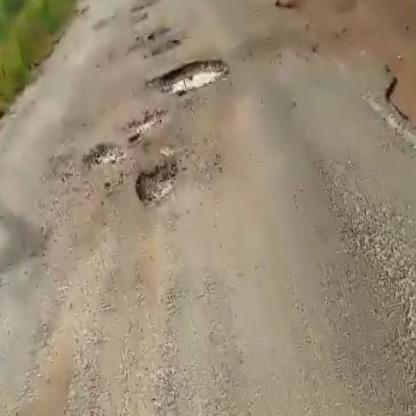pothole: (148, 48, 233, 103), (127, 156, 186, 212), (79, 131, 129, 176), (121, 107, 168, 143), (134, 21, 177, 50)
